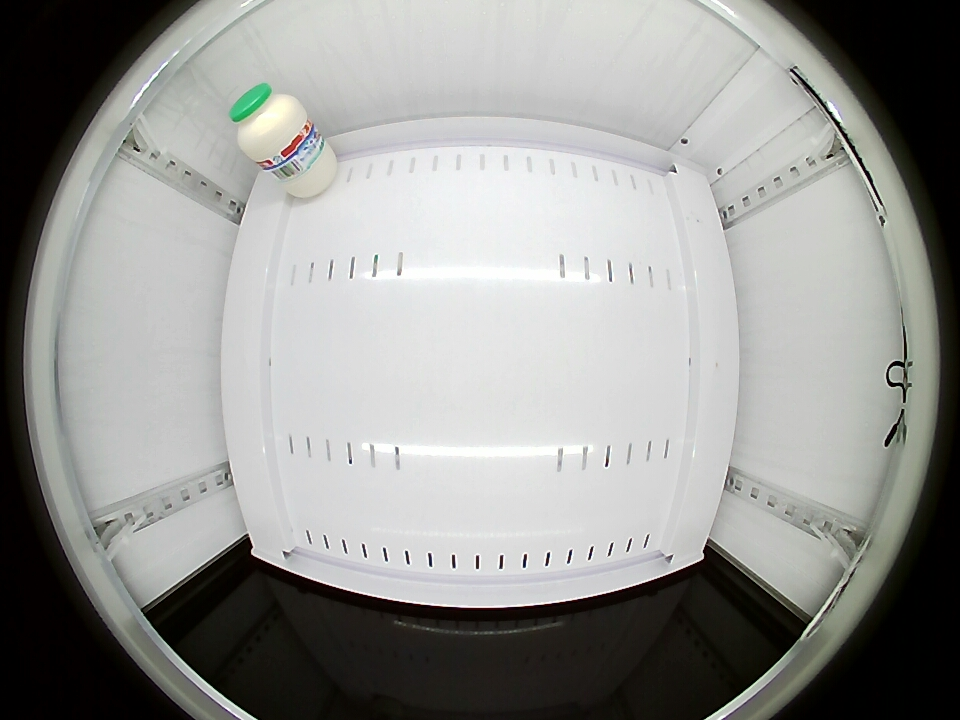liziyuan: (229, 82, 308, 165)
